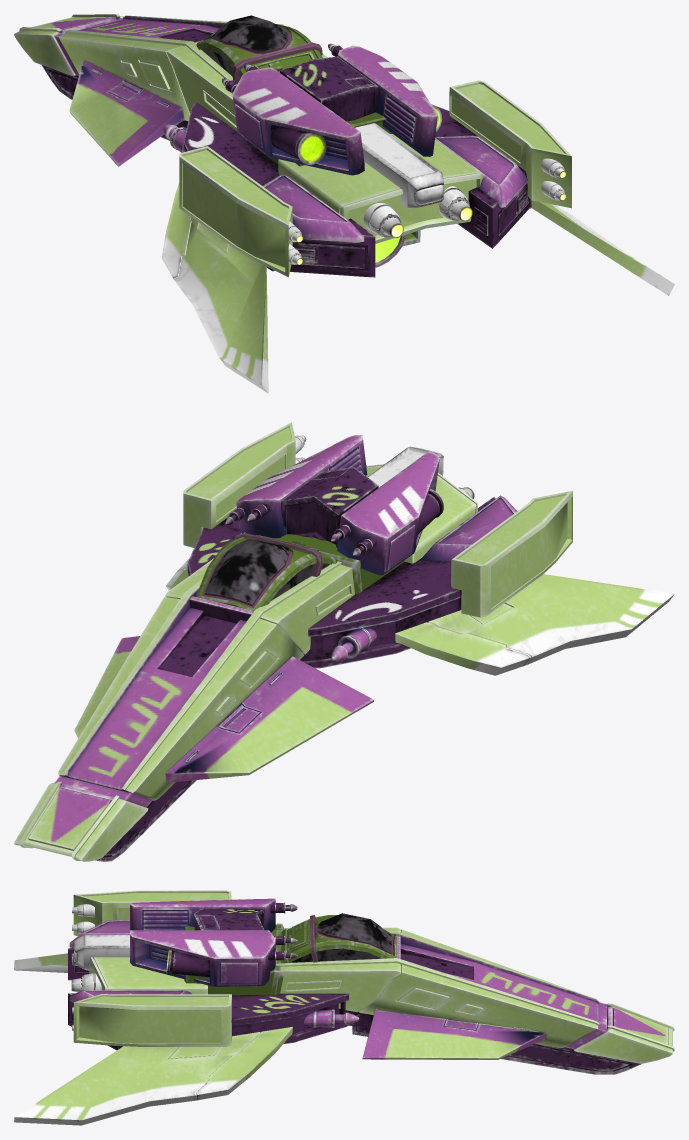
The model's file is wipeout.glb.
3 renders of one model, top to bottom at view 1: azimuth 30°, elevation 25°; view 2: azimuth 150°, elevation 25°; view 3: azimuth 270°, elevation 25°, orthographic. The views are drawn at different scales.
Parts seen in each view (by area): view 1: Vaisseau (×2); view 2: Vaisseau (×2); view 3: Vaisseau (×2).
Boxes of the visible parts, <box> form: Vaisseau (×2): <box>14,14,674,393</box>; Vaisseau (×2): <box>14,422,674,861</box>; Vaisseau (×2): <box>14,890,674,1125</box>.
Bounding box in the file's own units: 108 × 48.32 × 192.
Materials: 2 (2 with a texture image).
